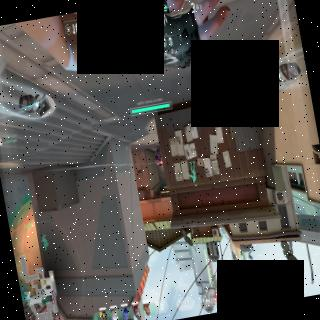ENEMY-HEAD: (159, 163, 161, 166), (158, 164, 160, 166)
